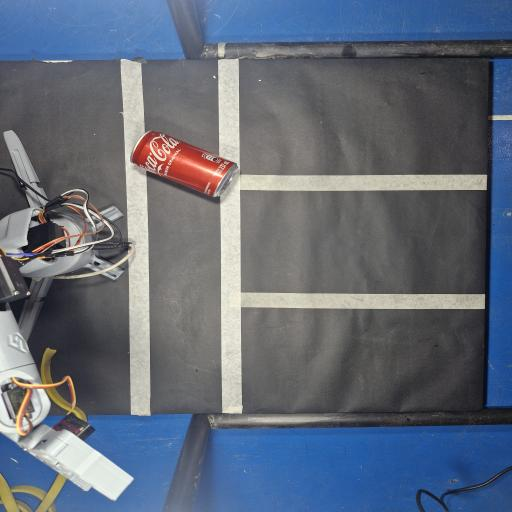lata: (131, 131, 238, 197)
